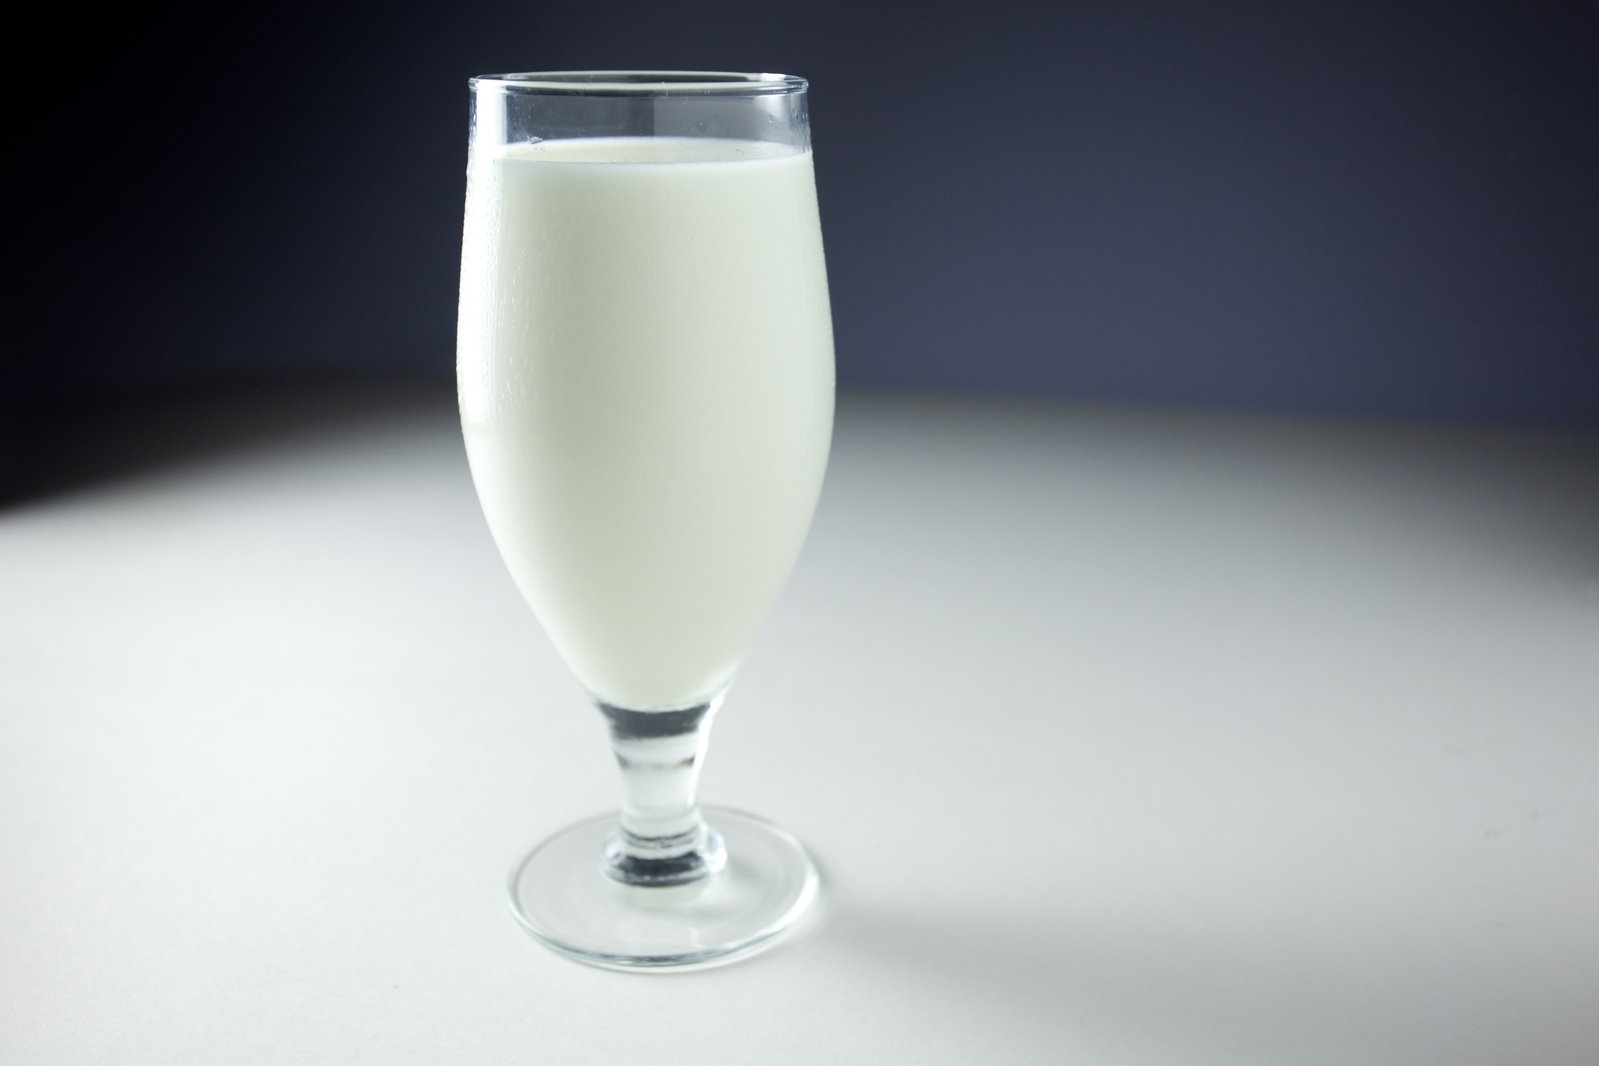glass of milk: (454, 49, 859, 813)
